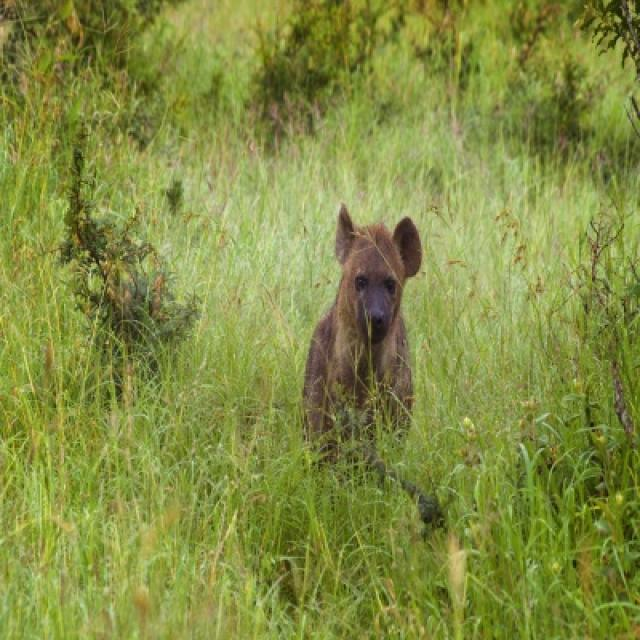hyena: (306, 208, 424, 437)
